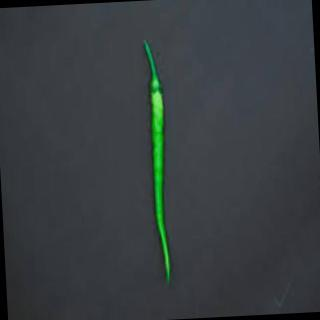Cabai Hijau: (147, 56, 172, 280)
